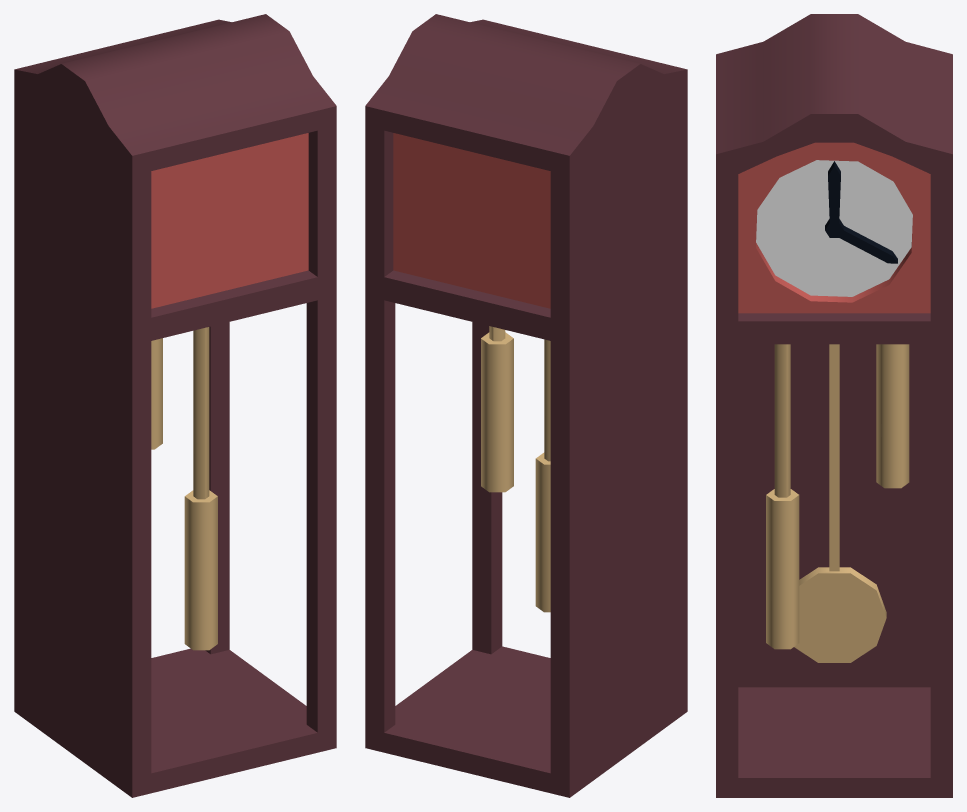
The model's file is pendulum.fbx.
The picture shows the model from 3 angles, left to right: view 1: azimuth 30°, elevation 25°; view 2: azimuth 150°, elevation 25°; view 3: azimuth 270°, elevation 25°; orthographic projection.
Parts seen in each view (by area): view 1: Pendulum, Clock; view 2: Pendulum, Clock; view 3: Pendulum, Clock.
Part boxes in pixels (bbox=[...]): Pendulum: bbox=[14, 14, 336, 797]; Clock: bbox=[151, 327, 217, 650]; Pendulum: bbox=[365, 14, 687, 797]; Clock: bbox=[481, 326, 550, 612]; Pendulum: bbox=[716, 14, 952, 797]; Clock: bbox=[766, 344, 909, 662].
Size of the model in its own units: 100 by 319 by 100.
